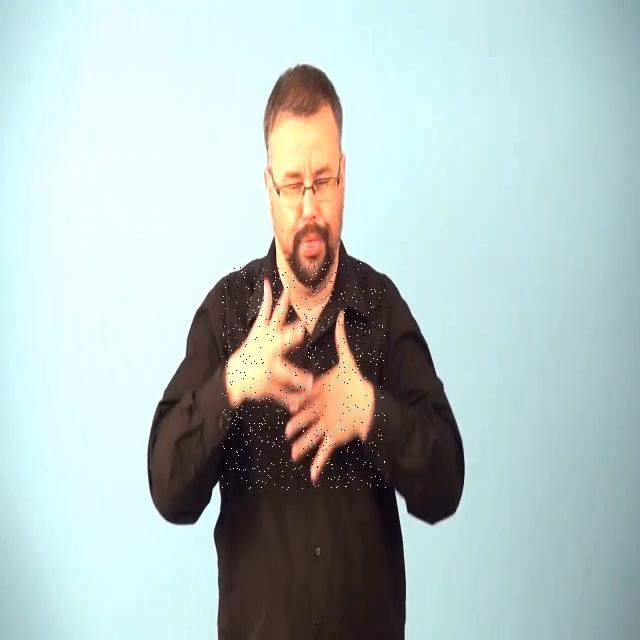juicy: (222, 262, 386, 490)
